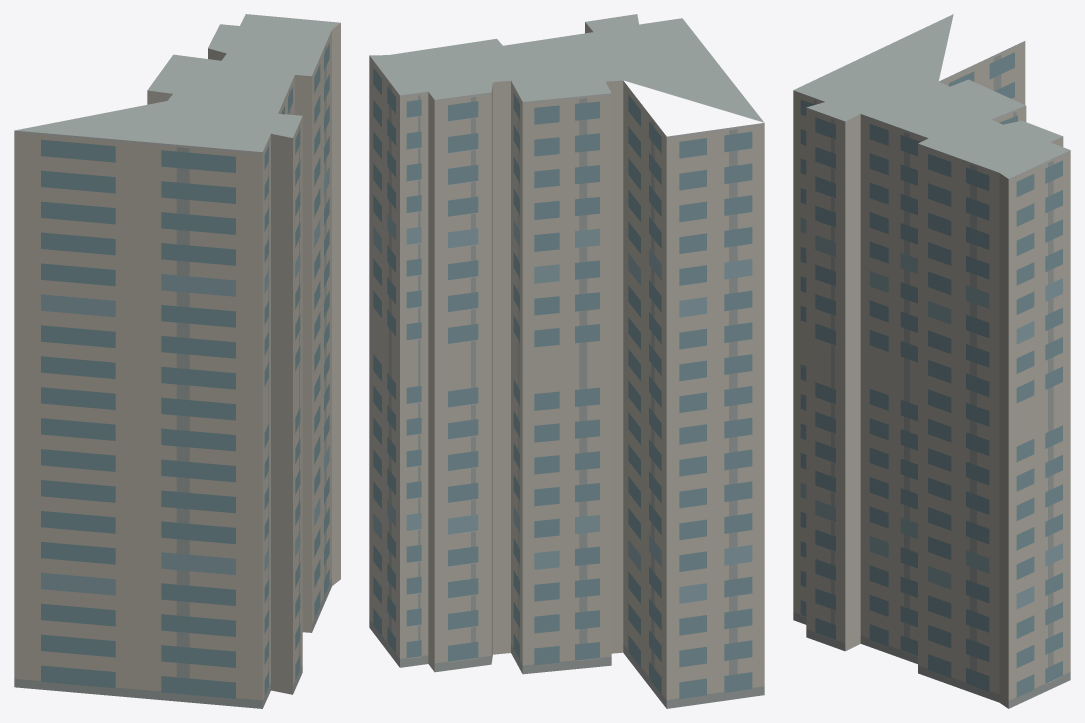
The model's file is residential-454a548c-ed71-46f0-9d27-e9302c70a102.glb.
3 renders of one model, left to right at view 1: azimuth 30°, elevation 25°; view 2: azimuth 150°, elevation 25°; view 3: azimuth 270°, elevation 25°, orthographic. The views are drawn at different scales.
Parts seen in each view (by area): view 1: residential-454a548c-ed71-46f0-9d27-e9302c70a102.tmp; view 2: residential-454a548c-ed71-46f0-9d27-e9302c70a102.tmp; view 3: residential-454a548c-ed71-46f0-9d27-e9302c70a102.tmp.
Part boxes in pixels (x1,y1,x2,y2): residential-454a548c-ed71-46f0-9d27-e9302c70a102.tmp: [14, 14, 340, 708]; residential-454a548c-ed71-46f0-9d27-e9302c70a102.tmp: [369, 14, 764, 708]; residential-454a548c-ed71-46f0-9d27-e9302c70a102.tmp: [793, 14, 1070, 708].
Bounding box in the file's own units: 36.69 × 54.9 × 26.07.
